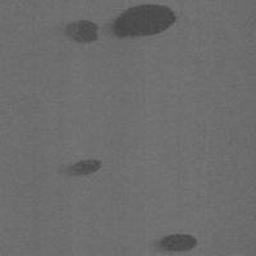Oil spot: (55, 3, 178, 47), (56, 156, 102, 179), (155, 232, 198, 253)
